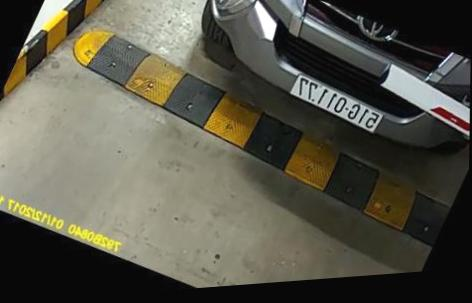License_Plate: (289, 68, 388, 150)
